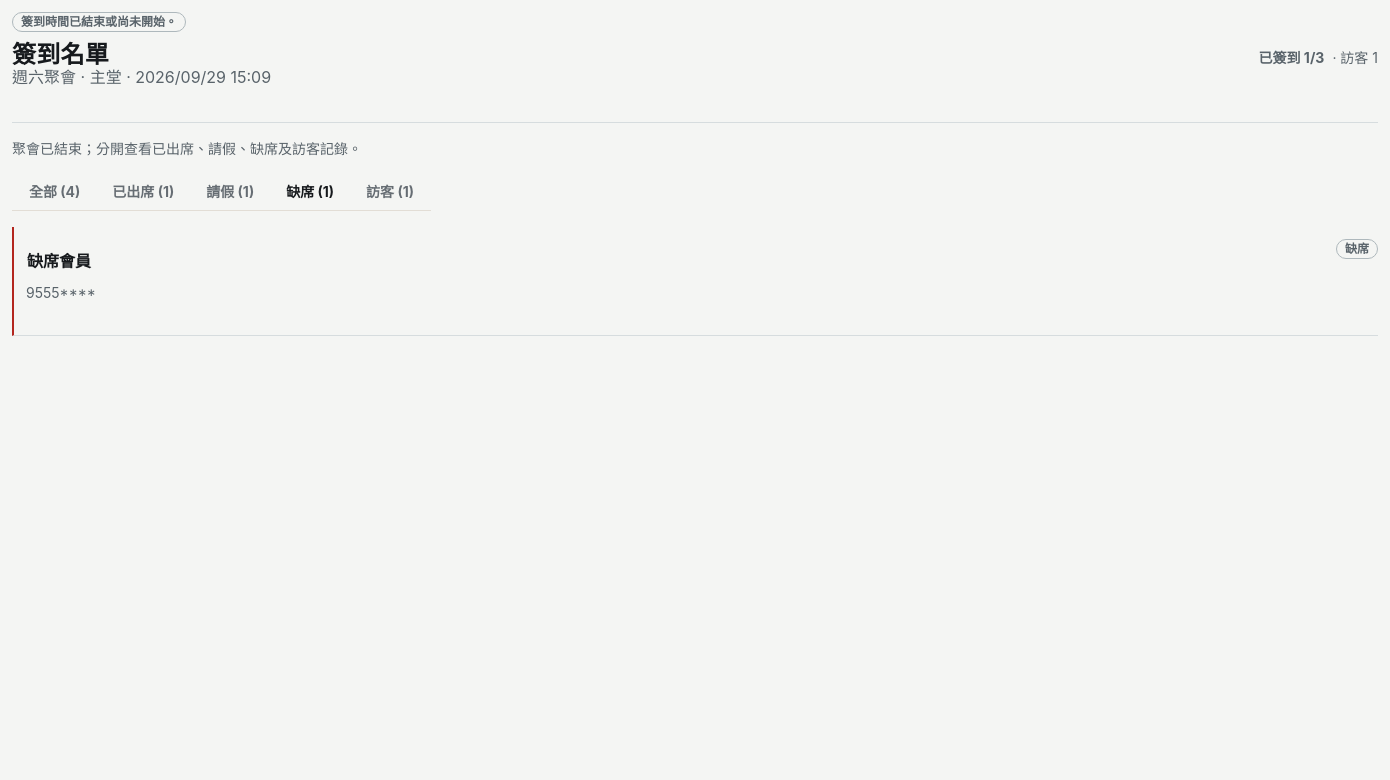
AttendanceRoster › post-event roster defaults to Absent and keeps Present, Excused, and Guest views distinct
The image size is (1390, 780).
Expected: the button "缺席會員" is shown, [26,239,96,283]
Expected: the text "已出席會員" is not shown
Click the tab "已出席 (1)": (143,192) [98,170,188,214]
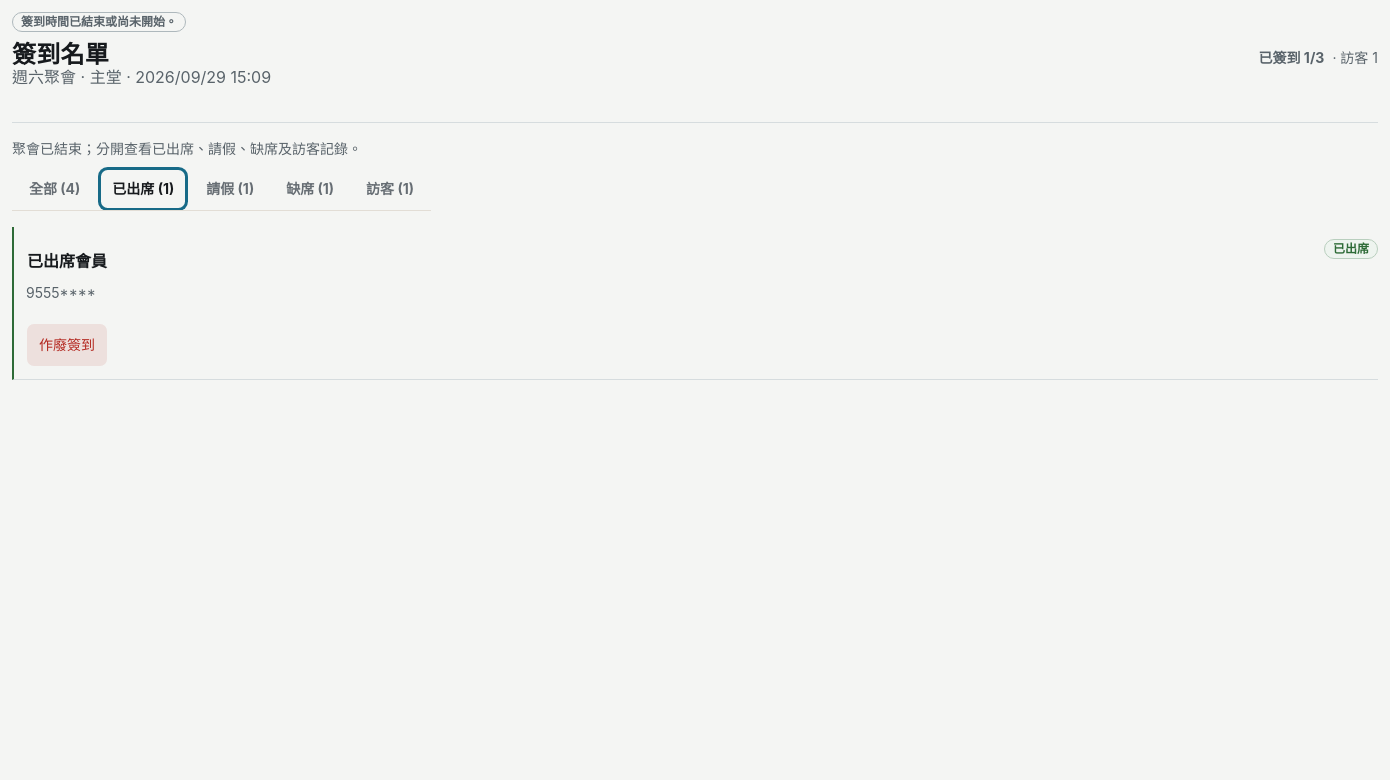
Now the button "已出席會員" is shown, box [26,239,108,283]
Now the button "缺席會員" is gone
Click the tab "請假 (1)": (230,189) [192,167,268,211]
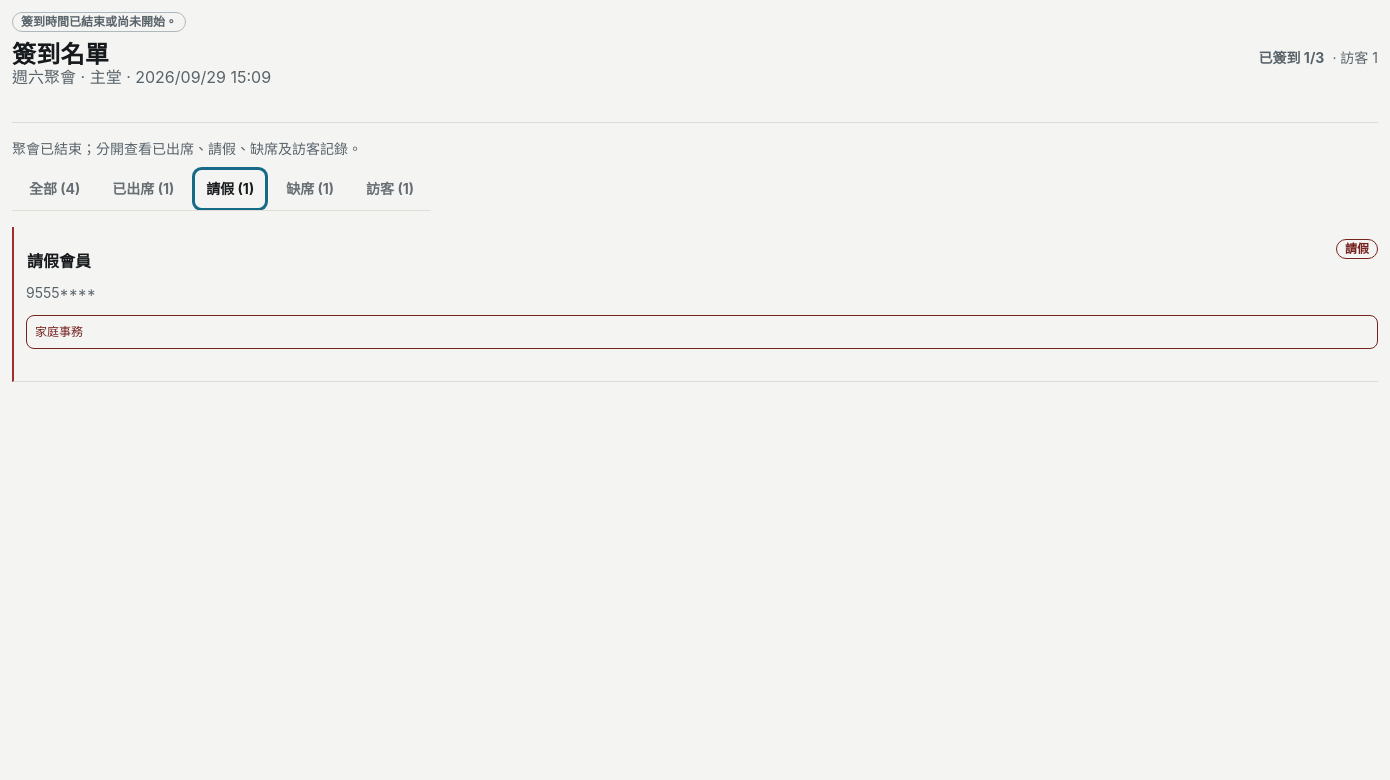
Expected: the button "缺席會員" is not shown
Now the button "請假會員" is shown, box [26,239,96,283]
Click the tab "訪客 (1)": (390,189) [352,167,428,211]
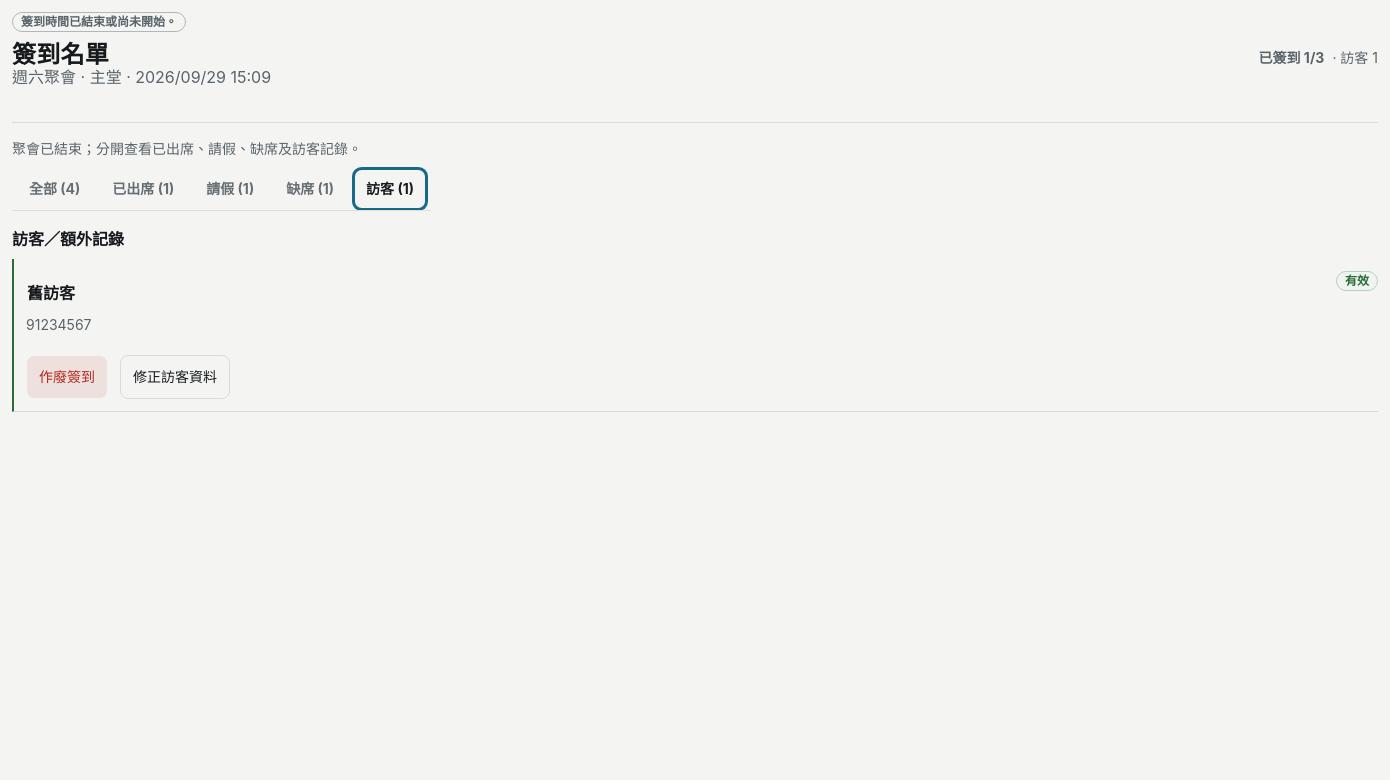
Expected: the button "缺席會員" is not shown
Now the button "舊訪客" is shown, box [26,271,92,315]
Click the tab "全部 (4)": (55,189) [15,167,94,211]
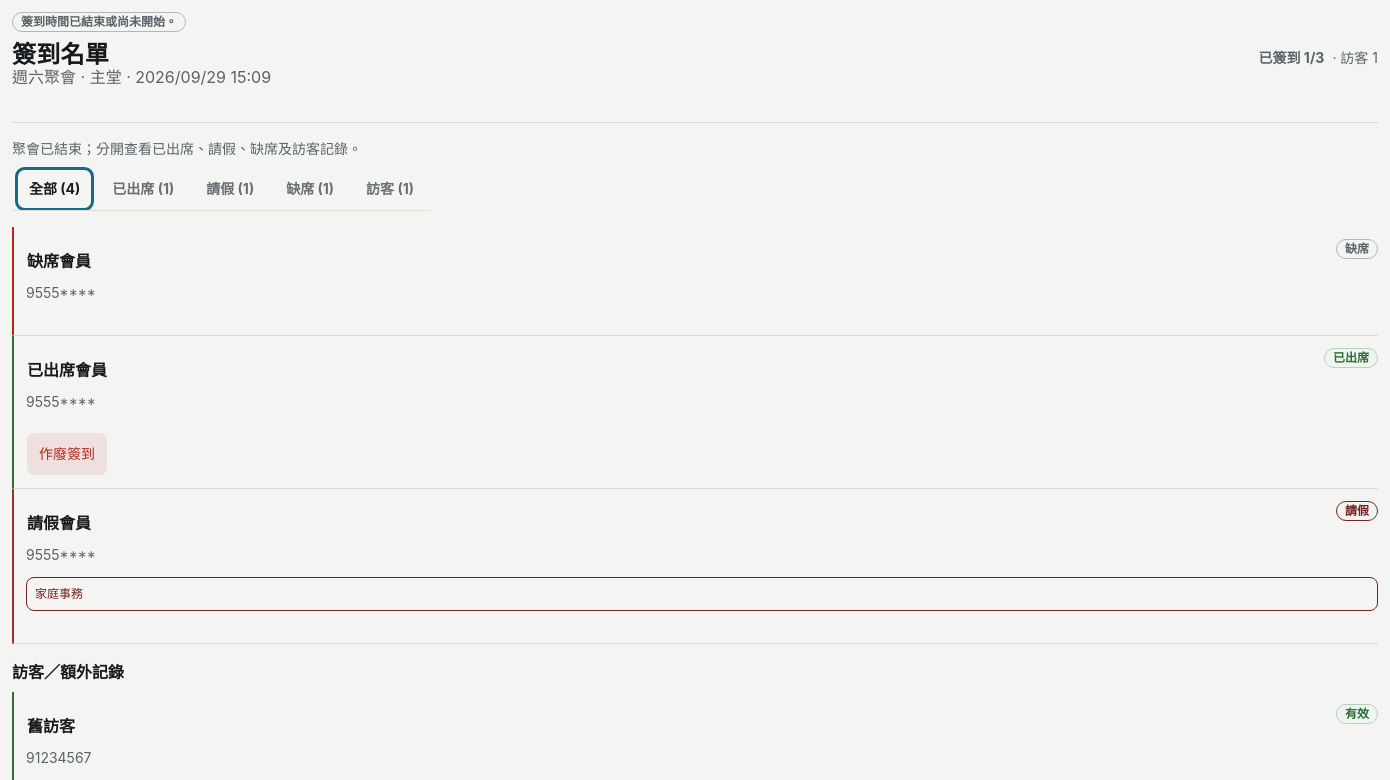
Now the button "缺席會員" is shown, box [26,239,96,283]
Now the button "已出席會員" is shown, box [26,348,108,392]
Now the button "請假會員" is shown, box [26,501,96,545]
